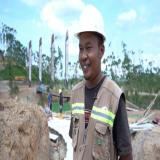Helmet: (74, 3, 106, 42), (58, 88, 62, 95)
Vest: (71, 80, 127, 160)
